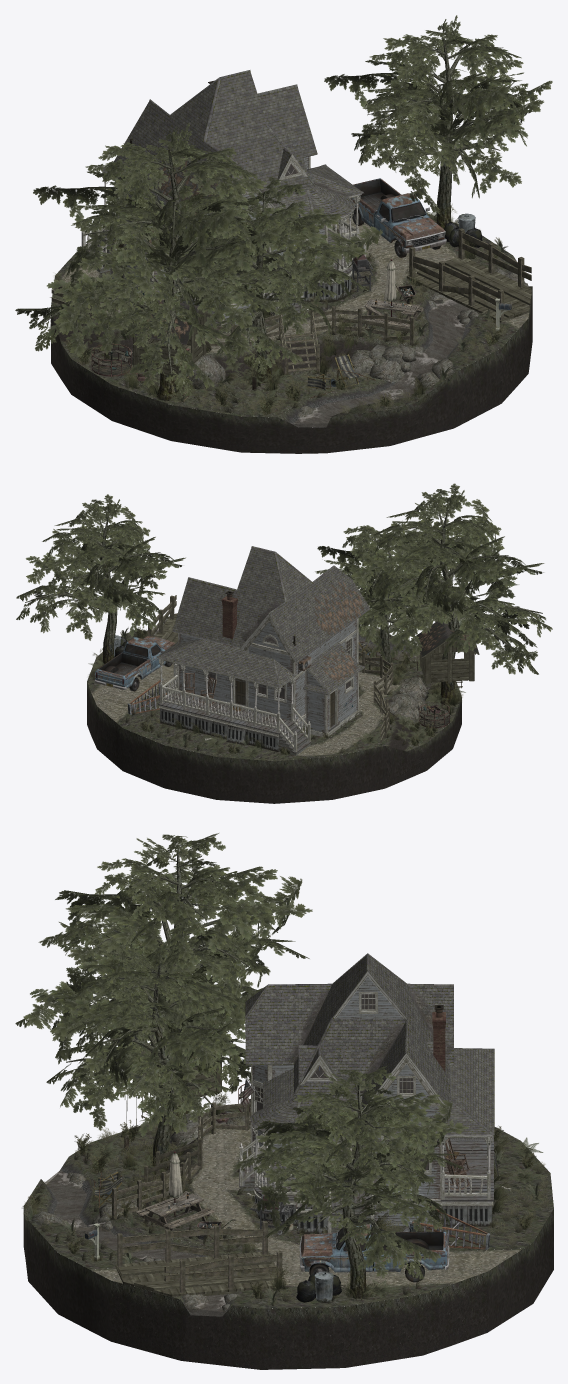
The model's file is dae_diorama_-_forest_loner.glb.
3 renders of one model, top to bottom at view 1: azimuth 30°, elevation 25°; view 2: azimuth 150°, elevation 25°; view 3: azimuth 270°, elevation 25°, orthographic. The views are drawn at different scales.
Visible parts, largest first — view 1: SM_trees_M_leafs_0, SM_ground_M_groundDirt_0, SM_roof1_M_roof_0, SM_ground_M_Grass_0, SM_shoeprint_M_plants_0, SM_ornaments_M_WhiteWood_0, SM_trees_M_treeBark_0, SM_bridge_M_TreeHouseWood_0, SM_rocks_M_Rocks_0, SM_Truck_M_Truck_Color_0, SM_water_M_Water_0, SM_ground_M_gravel_0 (+13 smaller); view 2: SM_trees_M_leafs_0, SM_roof1_M_roof_0, SM_ground_M_groundDirt_0, SM_ornaments_M_WhiteWood_0, SM_ground_M_Grass_0, SM_fassade_M_WoodWall_0, SM_shoeprint_M_plants_0, SM_trees_M_treeBark_0, SM_ground_M_gravel_0, SM_Truck_M_Truck_Color_0, SM_bridge_M_TreeHouseWood_0, SM_stairs_M_PorchFloor_0 (+11 smaller); view 3: SM_trees_M_leafs_0, SM_ground_M_groundDirt_0, SM_roof1_M_roof_0, SM_ground_M_Grass_0, SM_ornaments_M_WhiteWood_0, SM_shoeprint_M_plants_0, SM_trees_M_treeBark_0, SM_ground_M_gravel_0, SM_bridge_M_TreeHouseWood_0, SM_Truck_M_Truck_Color_0, SM_stairs_M_PorchFloor_0, SM_fassade_M_WoodWall_0 (+15 smaller).
Boxes of the visible parts, x1,y1,x2,y2 form: SM_trees_M_leafs_0: (15,15,552,395); SM_ground_M_groundDirt_0: (51,287,532,453); SM_roof1_M_roof_0: (100,70,363,256); SM_ground_M_Grass_0: (51,213,532,417); SM_shoeprint_M_plants_0: (50,204,507,415); SM_ornaments_M_WhiteWood_0: (51,154,531,374); SM_trees_M_treeBark_0: (42,25,520,400); SM_bridge_M_TreeHouseWood_0: (128,257,531,377); SM_rocks_M_Rocks_0: (120,268,528,419); SM_Truck_M_Truck_Color_0: (350,178,446,257); SM_water_M_Water_0: (293,278,525,427); SM_ground_M_gravel_0: (66,207,531,350); SM_trees_M_leafs_0: (16,483,552,674); SM_roof1_M_roof_0: (156,546,370,693); SM_ground_M_groundDirt_0: (87,682,461,803); SM_ornaments_M_WhiteWood_0: (148,595,393,755); SM_ground_M_Grass_0: (87,616,461,761); SM_fassade_M_WoodWall_0: (179,621,357,732); SM_shoeprint_M_plants_0: (88,625,465,757); SM_trees_M_treeBark_0: (25,504,542,704); SM_ground_M_gravel_0: (93,663,395,754); SM_Truck_M_Truck_Color_0: (94,636,174,691); SM_bridge_M_TreeHouseWood_0: (154,613,479,683); SM_stairs_M_PorchFloor_0: (158,682,337,753); SM_trees_M_leafs_0: (15,833,468,1279); SM_ground_M_groundDirt_0: (23,1137,553,1369); SM_roof1_M_roof_0: (245,953,494,1142); SM_ground_M_Grass_0: (23,1108,553,1308); SM_ornaments_M_WhiteWood_0: (112,971,511,1292); SM_shoeprint_M_plants_0: (22,1092,550,1306); SM_trees_M_treeBark_0: (39,845,440,1298); SM_ground_M_gravel_0: (96,1129,517,1294); SM_bridge_M_TreeHouseWood_0: (115,1042,284,1296); SM_Truck_M_Truck_Color_0: (299,1224,449,1282); SM_stairs_M_PorchFloor_0: (239,1135,493,1233); SM_fassade_M_WoodWall_0: (253,976,446,1225).
Bounding box in the file's own units: 28.27 × 13.47 × 20.21.
40 materials, 39 textured.
